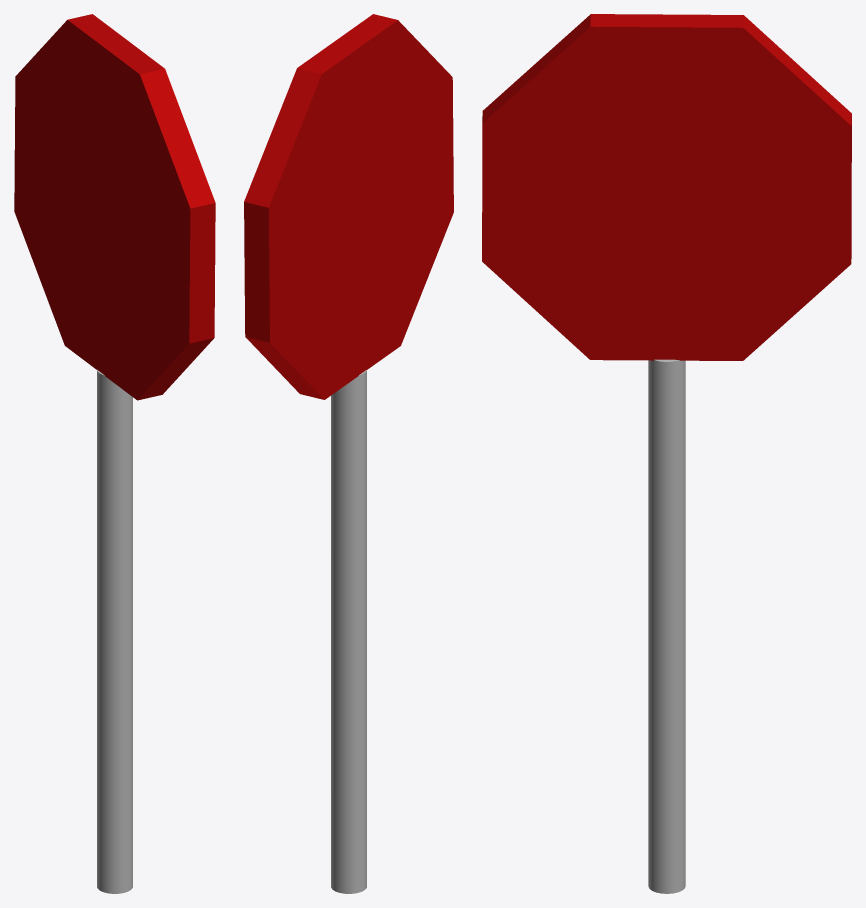
The model's file is stopsign.fbx.
3 views of the same model, side by side, from view 1: azimuth 30°, elevation 25°; view 2: azimuth 150°, elevation 25°; view 3: azimuth 270°, elevation 25° (orthographic). The views are drawn at different scales.
Visible parts, largest first — view 1: pCylinder5; view 2: pCylinder5; view 3: pCylinder5.
Boxes of the visible parts, x1,y1,x2,y2 form: pCylinder5: (14, 14, 215, 893); pCylinder5: (244, 14, 453, 893); pCylinder5: (482, 14, 851, 893).
Size of the model in its own units: 0.1222 by 3.12 by 1.21.
